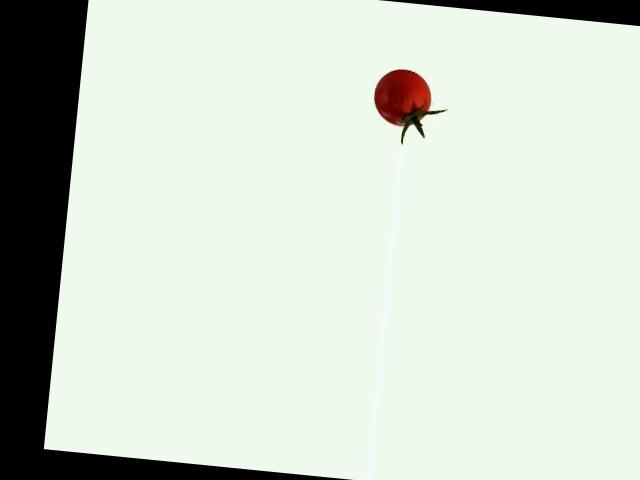tomato: (371, 66, 432, 128)
